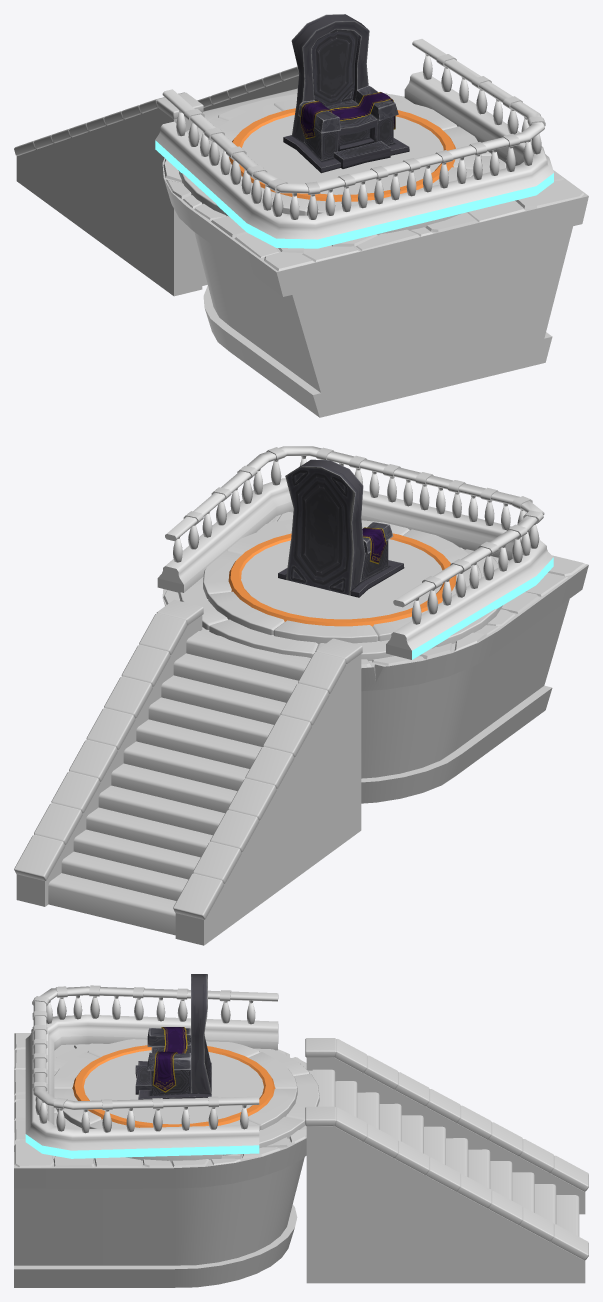
File: MainBossSpot.fbx
3 renders of one model, top to bottom at view 1: azimuth 30°, elevation 25°; view 2: azimuth 150°, elevation 25°; view 3: azimuth 270°, elevation 25°, orthographic. The views are drawn at different scales.
Visible parts, largest first — view 1: fence_002.009, fence_003.045, SM_PROP_throne_dungeon_01.001, SM_PROP_throne_cloth_dungeon.001; view 2: fence_002.009, fence_003.045, SM_PROP_throne_dungeon_01.001; view 3: fence_002.009, fence_003.045, SM_PROP_throne_dungeon_01.001, SM_PROP_throne_cloth_dungeon.001.
Part boxes in pixels (x1,y1,x2,y2): fence_002.009: (14,66,588,417); fence_003.045: (155,39,553,248); SM_PROP_throne_dungeon_01.001: (283,14,409,173); SM_PROP_throne_cloth_dungeon.001: (300,92,395,139); fence_002.009: (14,511,588,945); fence_003.045: (157,446,553,659); SM_PROP_throne_dungeon_01.001: (278,459,404,597); fence_002.009: (14,1033,588,1287); fence_003.045: (25,985,278,1158); SM_PROP_throne_dungeon_01.001: (135,974,211,1099); SM_PROP_throne_cloth_dungeon.001: (152,1027,187,1092).
Size of the model in its own units: 6.6 by 6.04 by 11.88.
6 materials, 3 textured.
